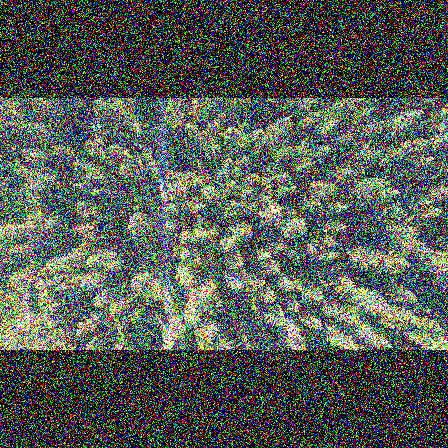Sick: (217, 164, 235, 182), (290, 247, 305, 266), (232, 202, 248, 214)
